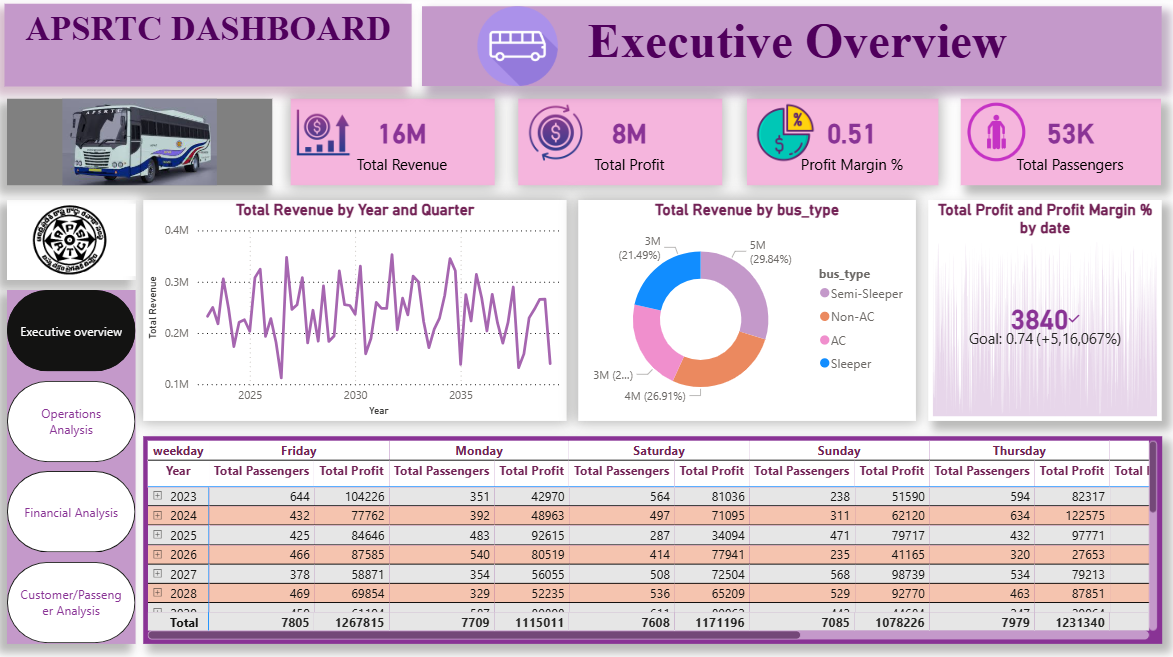

The dashboard page shown, as its layout file describes it:
{"tool":"powerbi","page":{"name":"Executive overview","canvas":[1280,720],"ordinal":0},"visuals":[{"type":"card","fields":{"Values":["fact_trips.Total Passengers"]},"box":[1044,112.3,216.5,93.4],"z":0,"group":"g1"},{"type":"card","fields":{"Values":["fact_trips.Total Revenue"]},"box":[318,112.3,220.6,93.4],"z":1000,"group":"g1"},{"type":"card","fields":{"Values":["fact_trips.Total Profit"]},"box":[564.3,112.3,220.6,93.4],"z":2000,"group":"g1"},{"type":"card","fields":{"Values":["fact_trips.Profit Margin %"]},"box":[812,112.3,207.1,93.4],"z":3000,"group":"g1"},{"type":"lineChart","fields":{"Category":["dim_dates.date.Variation.Date Hierarchy.Year","dim_dates.date.Variation.Date Hierarchy.Quarter","dim_dates.date.Variation.Date Hierarchy.Month","dim_dates.date.Variation.Date Hierarchy.Day"],"Y":["fact_trips.Total Revenue"]},"box":[158.3,222,458.8,239.5],"z":4000,"group":"g1"},{"type":"donutChart","fields":{"Category":["dim_buses.bus_type"],"Y":["fact_trips.Total Revenue"]},"box":[629.3,222,365.4,239.5],"z":5000,"group":"g1"},{"type":"kpi","fields":{"TrendLine":["dim_dates.date"],"Indicator":["fact_trips.Total Profit"],"Goal":["fact_trips.Profit Margin %"]},"box":[1008.2,222,253.1,239.5],"z":6000,"group":"g1"},{"type":"pivotTable","fields":{"Rows":["dim_dates.date.Variation.Date Hierarchy.Year","dim_dates.date.Variation.Date Hierarchy.Quarter","dim_dates.date.Variation.Date Hierarchy.Month","dim_dates.date.Variation.Date Hierarchy.Day"],"Columns":["dim_dates.weekday"],"Values":["fact_trips.Total Passengers","fact_trips.Total Profit"]},"box":[158.3,477.8,1103,224.7],"z":7000,"group":"g1"},{"type":"textbox","box":[460.1,12.2,801.2,86.6],"z":8000,"group":"g1"},{"type":"textbox","box":[10.8,12.2,438.5,86.6],"z":9000,"group":"g1"},{"type":"image","box":[10.8,112.3,286.9,93.4],"z":10000,"group":"g1"},{"type":"pageNavigator","box":[10.8,319.4,139.4,383],"z":11000,"group":"g1"},{"type":"image","box":[10.8,222,139.4,86.6],"z":12000,"group":"g1"},{"type":"image","box":[1044.8,112.3,74.4,71.7],"z":12001,"group":"g1"},{"type":"image","box":[812,117.8,82.6,62.3],"z":12002,"group":"g1"},{"type":"image","box":[569.7,117.8,70.4,62.3],"z":12003,"group":"g1"},{"type":"image","box":[318,117.8,70.4,62.3],"z":12004,"group":"g1"},{"type":"image","box":[508.8,12.2,109.6,86.6],"z":12005,"group":"g1"},{"type":"group","id":"g1","title":"Group 1","box":[10.8,12.2,1250.5,690.2],"z":12006}]}

Visuals, with their boxes in screenshot pixels (x1, y1, x2, y2), scaled from the page's 1280x720 canvas onto the 1173x657 screenshot:
card - fact_trips.Total Passengers: (x1=957, y1=102, x2=1155, y2=188)
card - fact_trips.Total Revenue: (x1=291, y1=102, x2=494, y2=188)
card - fact_trips.Total Profit: (x1=517, y1=102, x2=719, y2=188)
card - fact_trips.Profit Margin %: (x1=744, y1=102, x2=934, y2=188)
lineChart - dim_dates.date.Variation.Date Hierarchy.Year x dim_dates.date.Variation.Date Hierarchy.Quarter: (x1=145, y1=203, x2=566, y2=421)
donutChart - dim_buses.bus_type x fact_trips.Total Revenue: (x1=577, y1=203, x2=912, y2=421)
kpi - dim_dates.date x fact_trips.Total Profit: (x1=924, y1=203, x2=1156, y2=421)
pivotTable - dim_dates.date.Variation.Date Hierarchy.Year x dim_dates.date.Variation.Date Hierarchy.Quarter: (x1=145, y1=436, x2=1156, y2=641)
textbox: (x1=422, y1=11, x2=1156, y2=90)
textbox: (x1=10, y1=11, x2=412, y2=90)
image: (x1=10, y1=102, x2=273, y2=188)
pageNavigator: (x1=10, y1=291, x2=138, y2=641)
image: (x1=10, y1=203, x2=138, y2=282)
image: (x1=957, y1=102, x2=1026, y2=168)
image: (x1=744, y1=107, x2=820, y2=164)
image: (x1=522, y1=107, x2=587, y2=164)
image: (x1=291, y1=107, x2=356, y2=164)
image: (x1=466, y1=11, x2=567, y2=90)
"Group 1" group: (x1=10, y1=11, x2=1156, y2=641)
